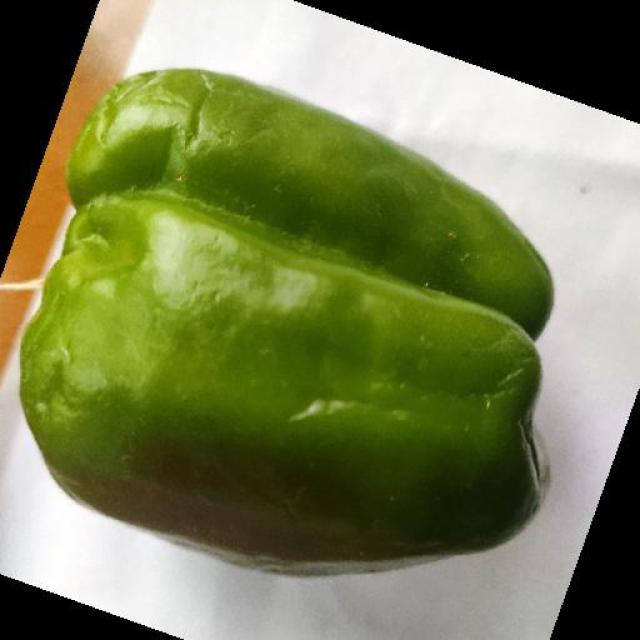Stale_Capsicum: (58, 110, 532, 580)
